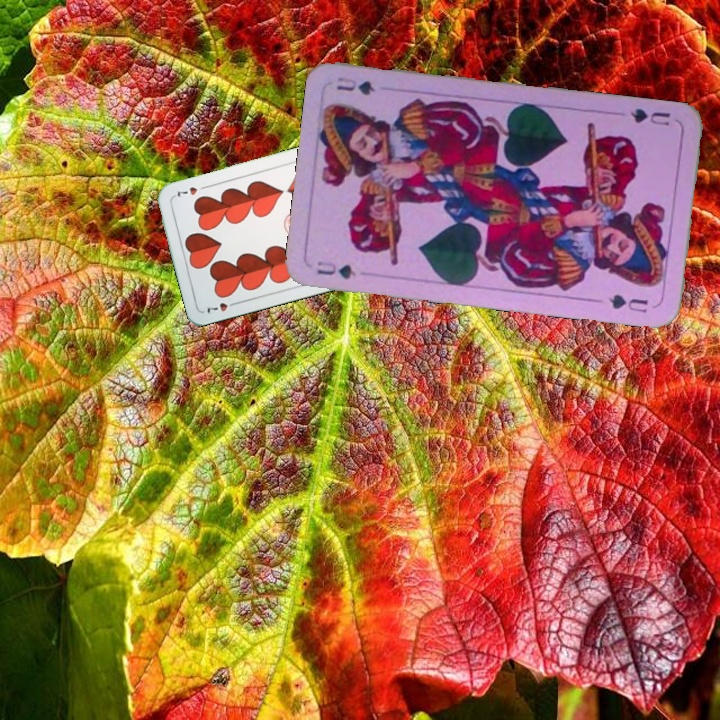GU: (626, 104, 673, 129), (313, 257, 359, 282)
H7: (203, 297, 241, 316)
